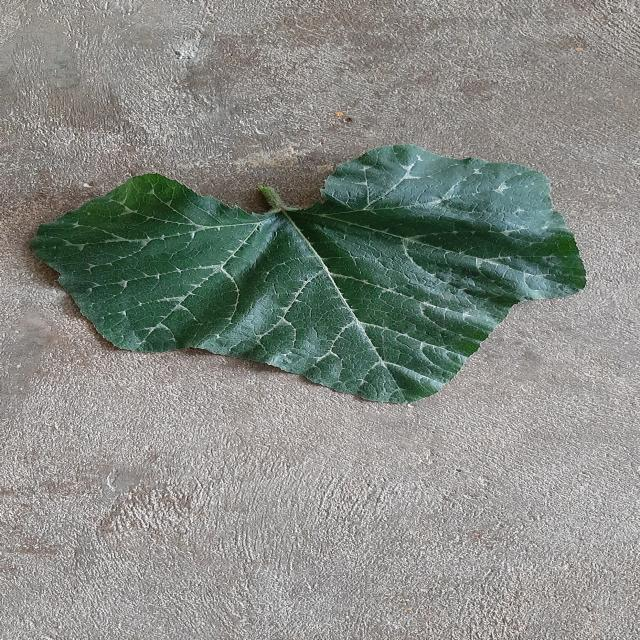pumpkin: (33, 145, 585, 402)
